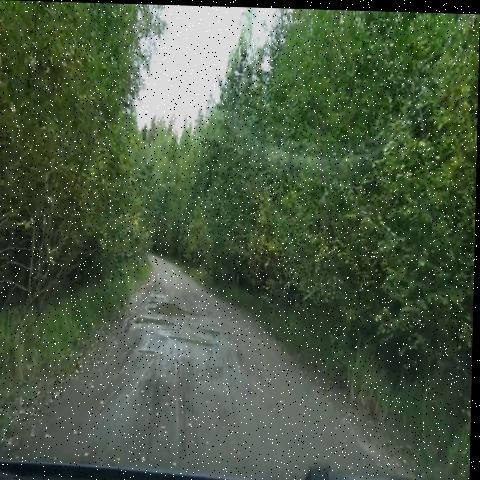pothole: (145, 289, 206, 321), (130, 312, 180, 333), (163, 332, 221, 350), (198, 320, 225, 337), (137, 344, 165, 357)
